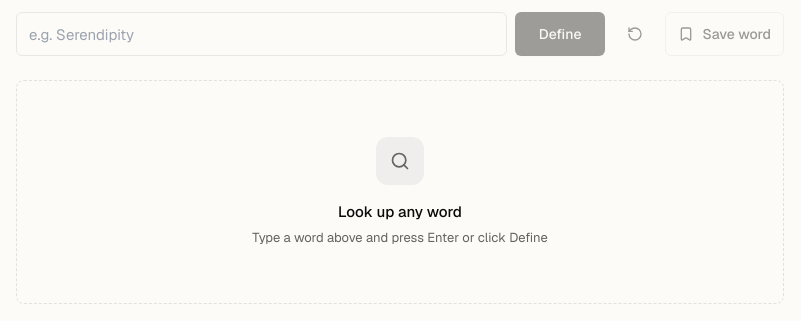
WordDefinition › renders pronunciation button after a successful definition
Type "serendipity" into the field with placeholder "e.g. Serendipity".
click(261, 34); type("serendipity")  # box 16,12 -> 507,56
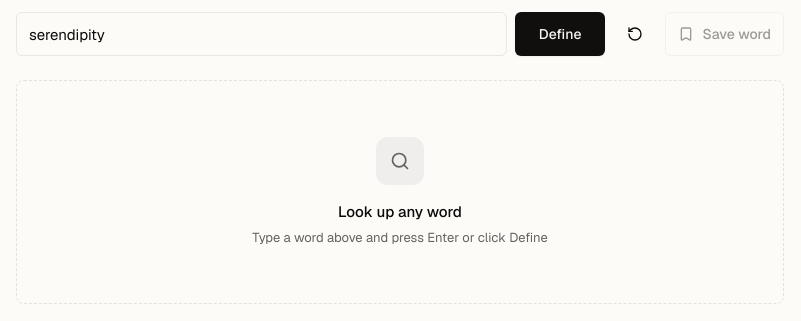
Click the button "Define".
click(560, 34)  # box 515,12 -> 606,56
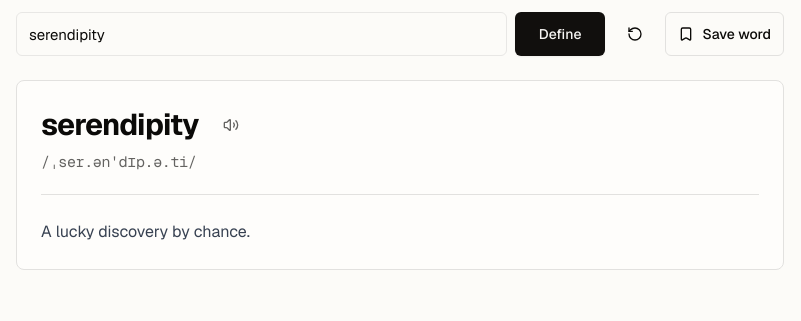
Expected: the button named "play pronunciation for serendipity" is shown, 211,105 -> 251,145
